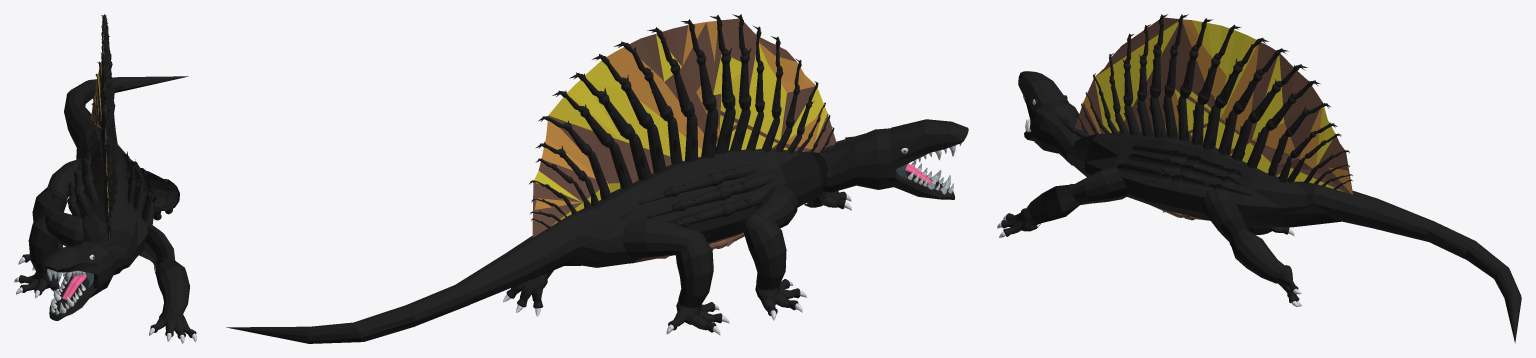
File: carnotaurus.glb
3 renders of one model, left to right at view 1: azimuth 30°, elevation 25°; view 2: azimuth 150°, elevation 25°; view 3: azimuth 270°, elevation 25°, orthographic. The views are drawn at different scales.
Parts seen in each view (by area): view 1: group865701839, group1236733959, group1510379380, group660436678, group1518454184, group943141992, group1774306891, group1832439925, group735201824, group341279888, group940515321, group1980282954 (+24 smaller); view 2: group1975238049, group865701839, group2809979, group1510379380, group660436678, group1518454184, group341279888, group940515321, group1774306891, group511023898, group291596219, group578534057 (+14 smaller); view 3: group1975238049, group865701839, group2809979, group1510379380, group660436678, group1845778876, group1832439925, group1236733959, group1959398977, group1518454184, group1679083128, group271335758 (+15 smaller).
Part boxes in pixels (x1,y1,x2,y2): group865701839: (74, 139, 154, 269); group1236733959: (155, 259, 189, 314); group1510379380: (64, 101, 101, 159); group660436678: (64, 237, 127, 292); group1518454184: (41, 245, 98, 274); group943141992: (45, 208, 83, 246); group1774306891: (28, 214, 58, 274); group1832439925: (139, 222, 175, 267); group735201824: (49, 276, 100, 320); group341279888: (47, 158, 81, 197); group940515321: (32, 187, 67, 222); group1980282954: (119, 76, 188, 91); group1975238049: (532, 22, 721, 237); group865701839: (565, 148, 828, 265); group2809979: (706, 18, 836, 152); group1510379380: (455, 206, 641, 304); group660436678: (819, 128, 899, 192); group1518454184: (889, 119, 968, 169); group341279888: (622, 217, 694, 258); group940515321: (675, 235, 713, 308); group1774306891: (744, 219, 786, 290); group511023898: (406, 284, 471, 325); group291596219: (646, 174, 776, 218); group578534057: (350, 305, 418, 341); group1975238049: (1165, 20, 1352, 194); group865701839: (1067, 131, 1341, 227); group2809979: (1075, 17, 1226, 135); group1510379380: (1265, 181, 1431, 242); group660436678: (1030, 99, 1082, 165); group1845778876: (1230, 228, 1284, 283); group1832439925: (1071, 168, 1128, 204); group1236733959: (1023, 184, 1080, 225); group1959398977: (1202, 186, 1248, 242); group1518454184: (1018, 71, 1068, 118); group1679083128: (1117, 163, 1252, 197); group271335758: (1128, 153, 1256, 189).
Bounding box in the file's own units: 2.79 × 1.64 × 3.24.
